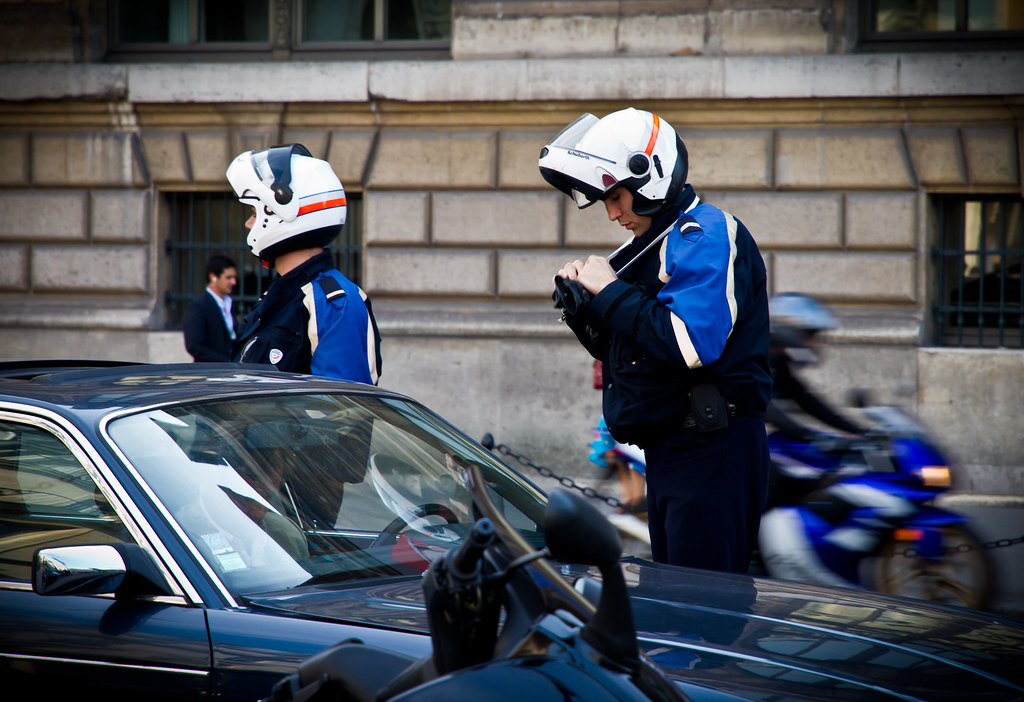helmet: (558, 122, 700, 226), (231, 142, 351, 258)
